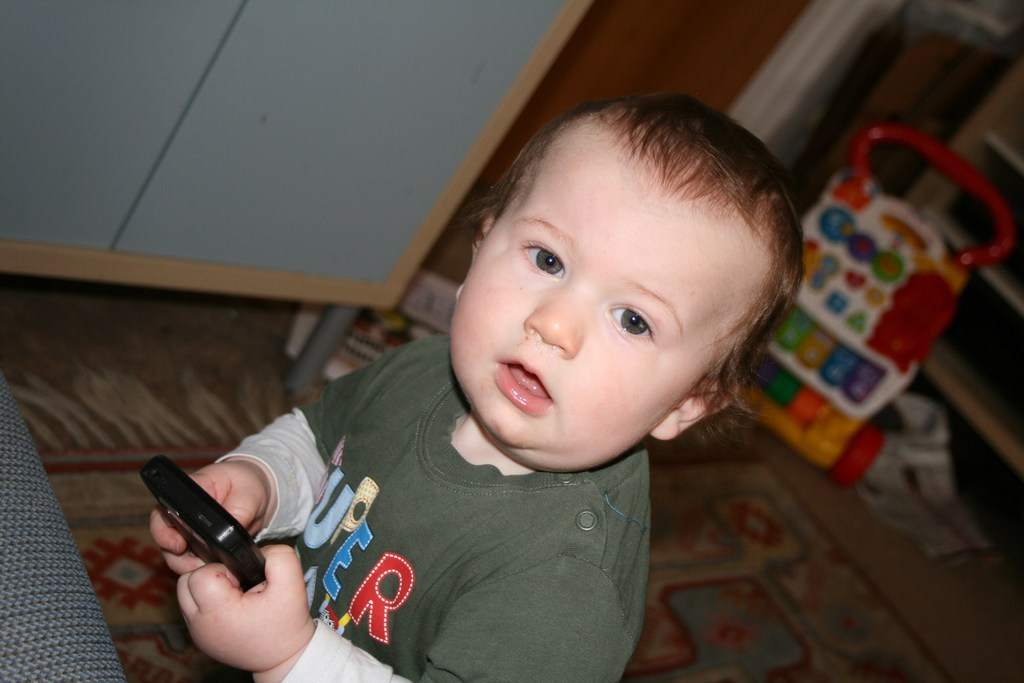Mobile-phone: (140, 448, 282, 608)
